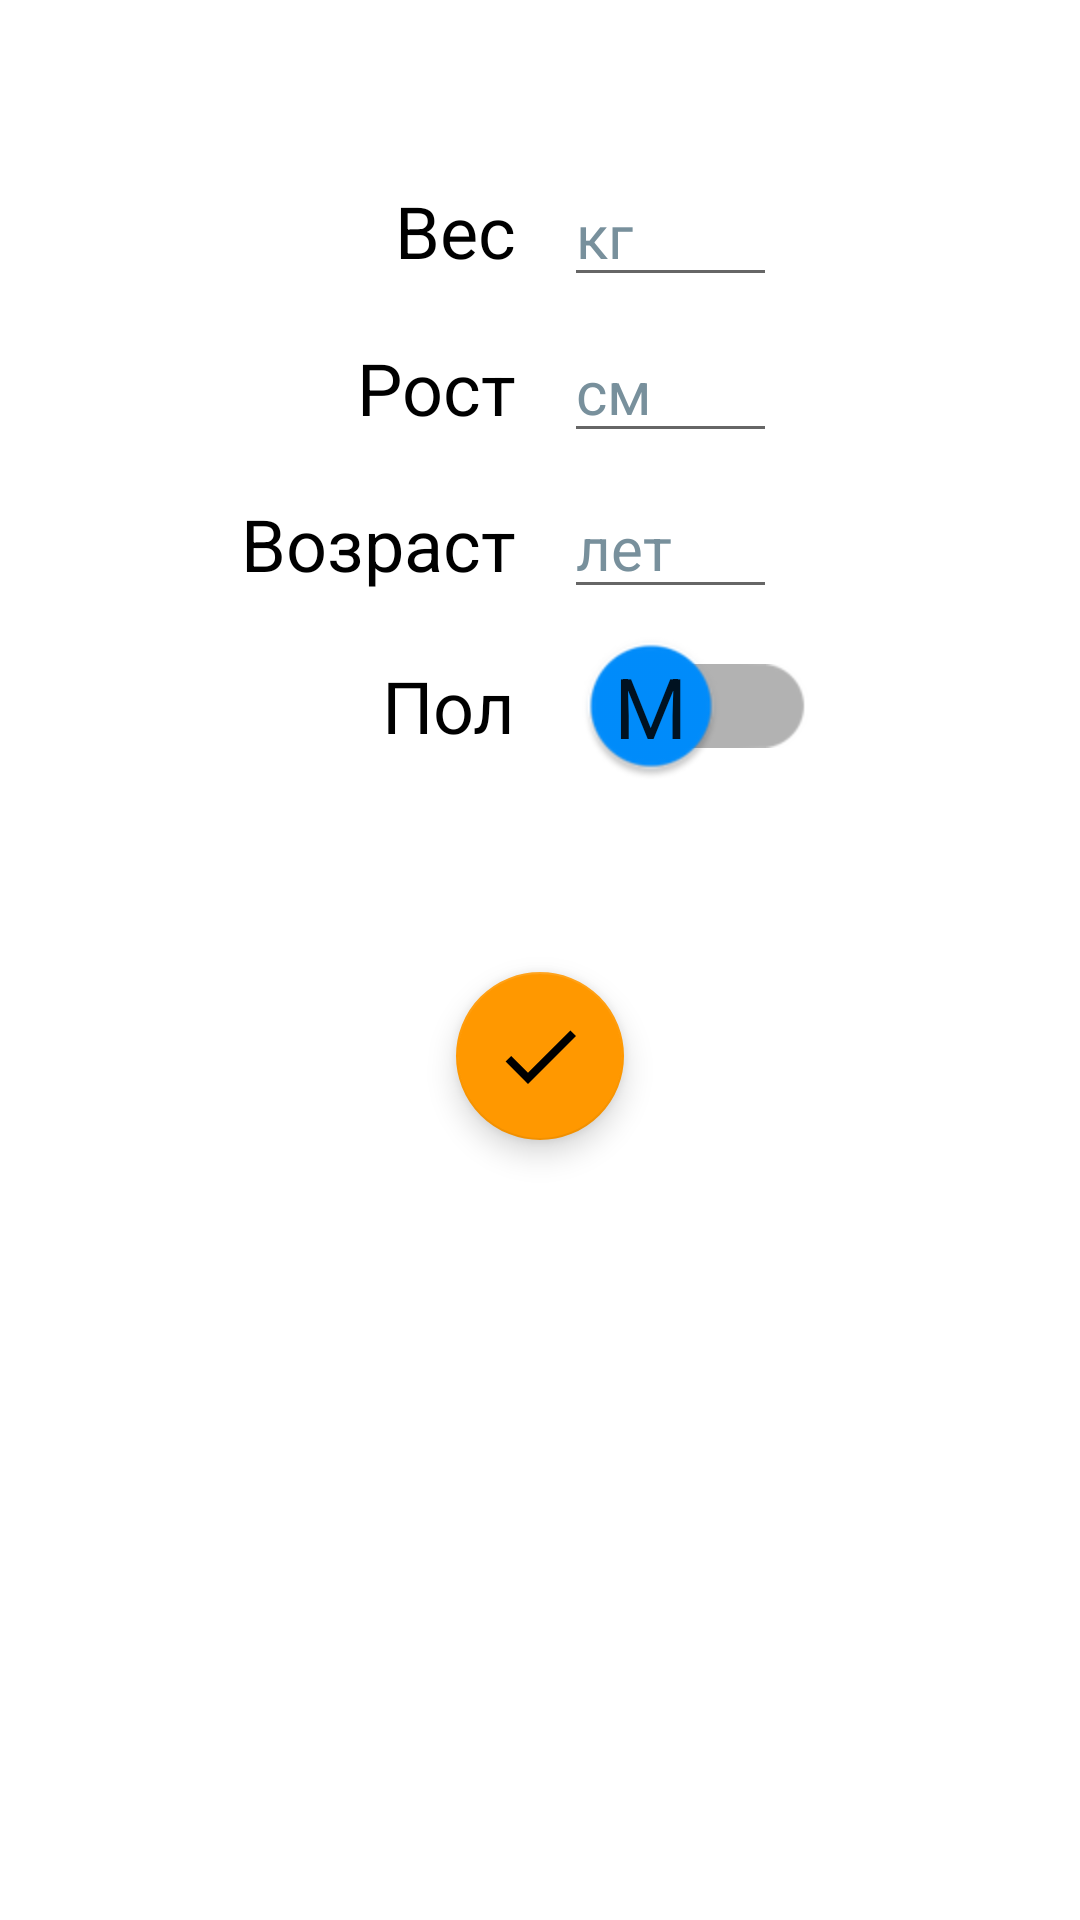

Screen size 1080 x 1920. Icon name, then its box in pixels as (x1, y1, x2, y2):
save: (456, 972, 624, 1140)
